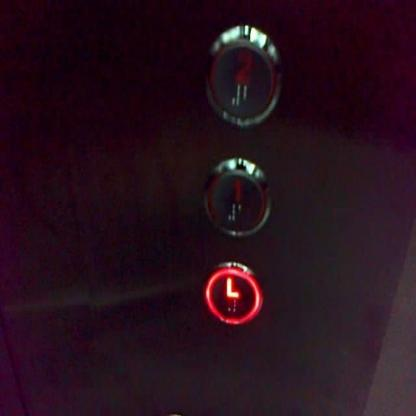1: (200, 156, 272, 238)
2: (204, 23, 284, 127)
L: (201, 258, 264, 328)
